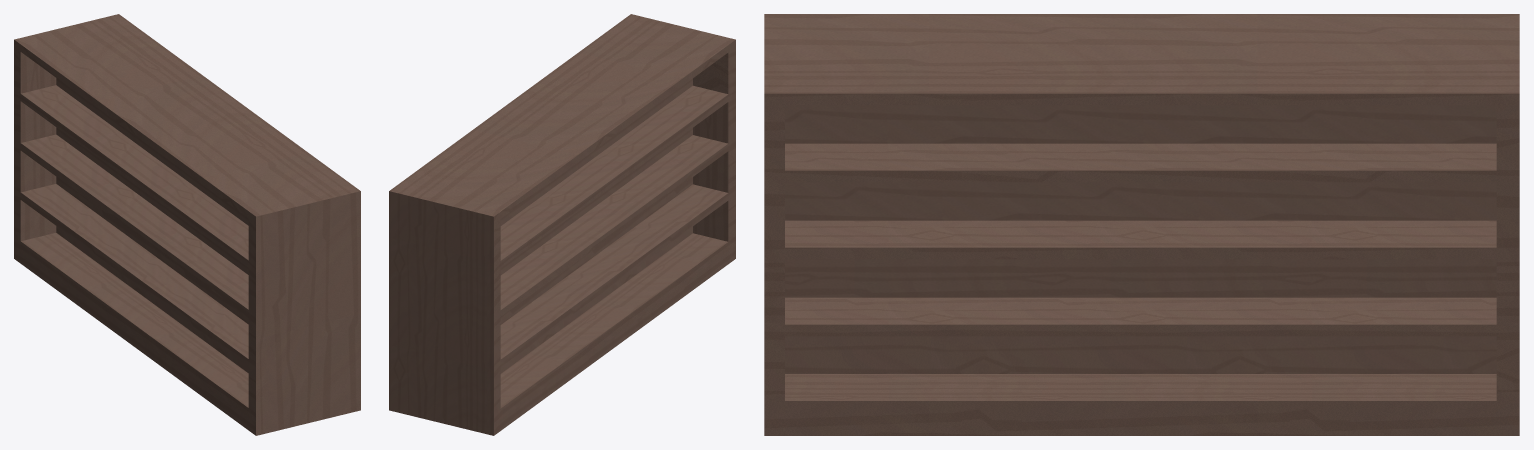
Rendered from Bookcase_sm.fbx.
3 renders of one model, left to right at view 1: azimuth 30°, elevation 25°; view 2: azimuth 150°, elevation 25°; view 3: azimuth 270°, elevation 25°, orthographic. The views are drawn at different scales.
Parts seen in each view (by area): view 1: Cube; view 2: Cube; view 3: Cube.
Boxes of the visible parts, x1=… form: Cube: x1=14, y1=14, x2=360, y2=435; Cube: x1=389, y1=14, x2=735, y2=435; Cube: x1=764, y1=14, x2=1519, y2=435.
Bounding box in the file's own units: 100 × 200 × 400.
